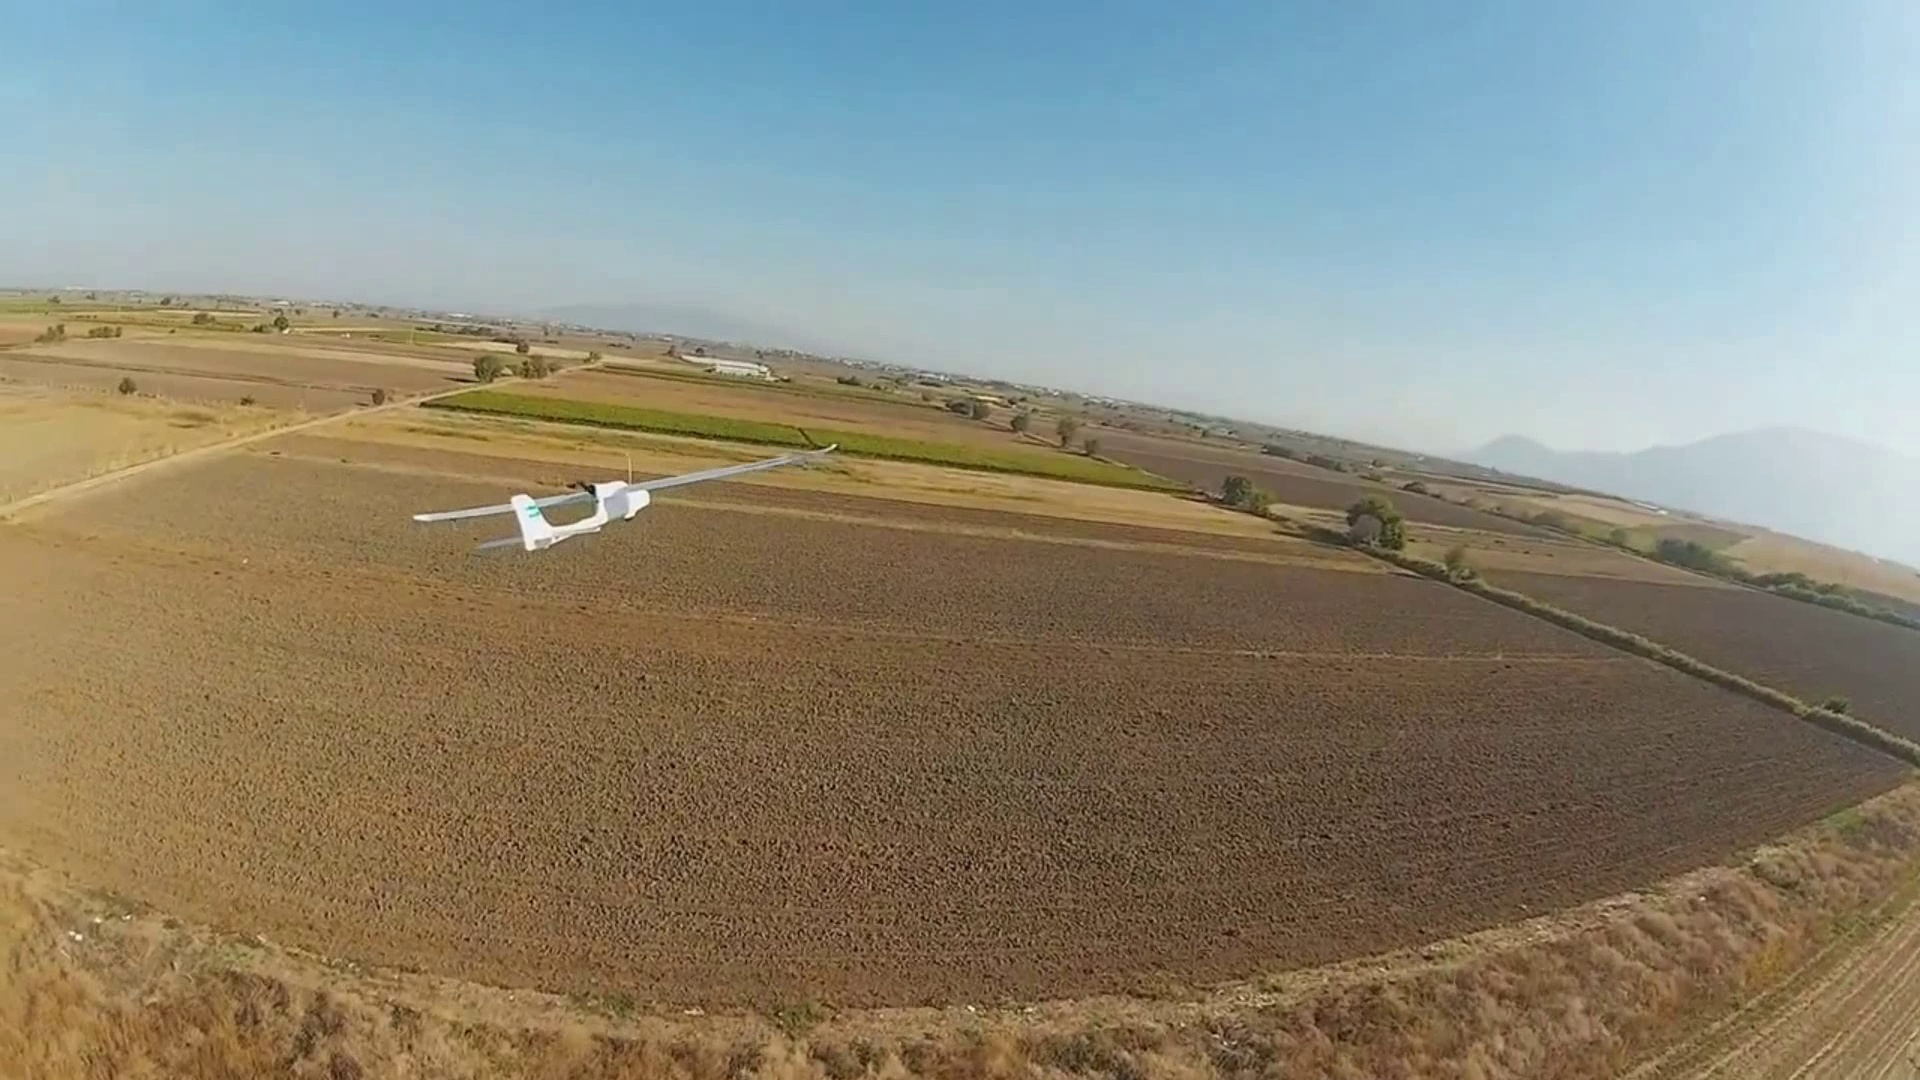airplane: (409, 460, 815, 553)
